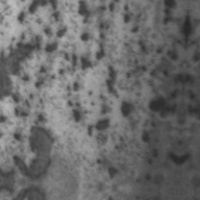patches: (0, 29, 44, 112), (10, 120, 57, 183)
pitted_surface: (32, 0, 189, 132), (55, 95, 180, 183)
